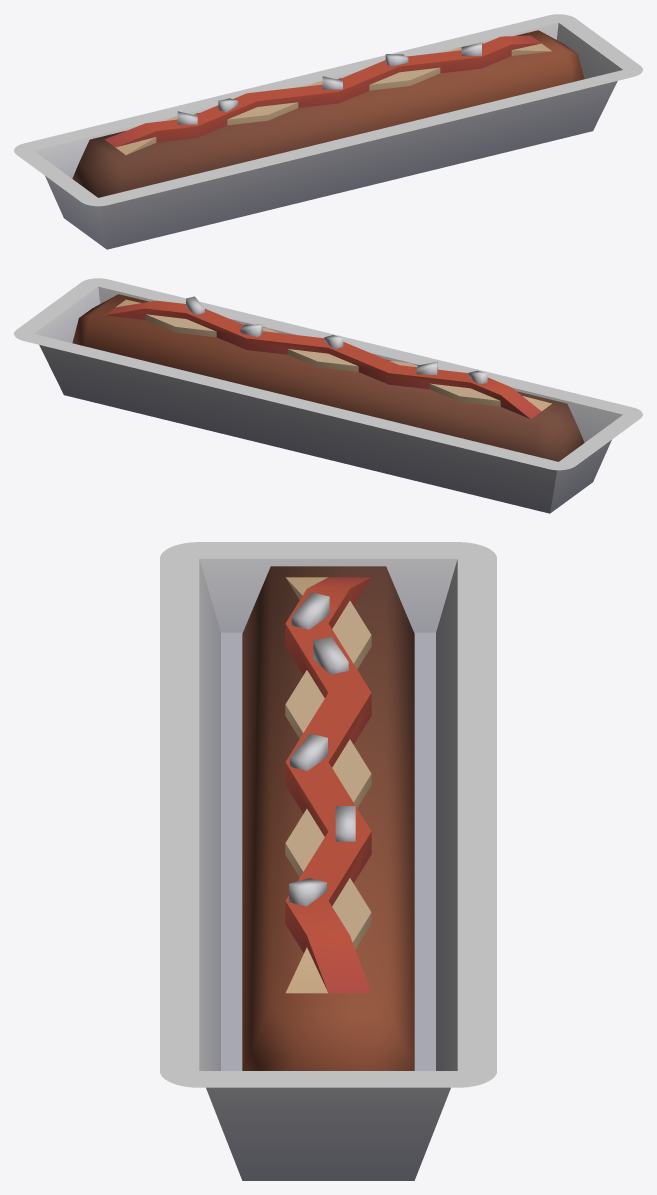
Rendered from frikandel-speciaal.glb.
3 views of the same model, one above another, from view 1: azimuth 30°, elevation 25°; view 2: azimuth 150°, elevation 25°; view 3: azimuth 270°, elevation 25° (orthographic). The views are drawn at different scales.
Parts seen in each view (by area): view 1: frikandel-speciaal, frikandel, sauce-onions; view 2: frikandel-speciaal, frikandel, sauce-onions; view 3: frikandel-speciaal, frikandel, sauce-onions.
Boxes of the visible parts, x1,y1,x2,y2 form: frikandel-speciaal: (14, 14, 642, 249); frikandel: (72, 30, 584, 197); sauce-onions: (105, 35, 551, 155); frikandel-speciaal: (14, 278, 642, 513); frikandel: (72, 294, 584, 461); sauce-onions: (105, 296, 551, 419); frikandel-speciaal: (160, 542, 496, 1180); frikandel: (242, 566, 414, 1070); sauce-onions: (285, 577, 371, 993).
Size of the model in its own units: 0.636 by 0.1087 by 0.1661.
